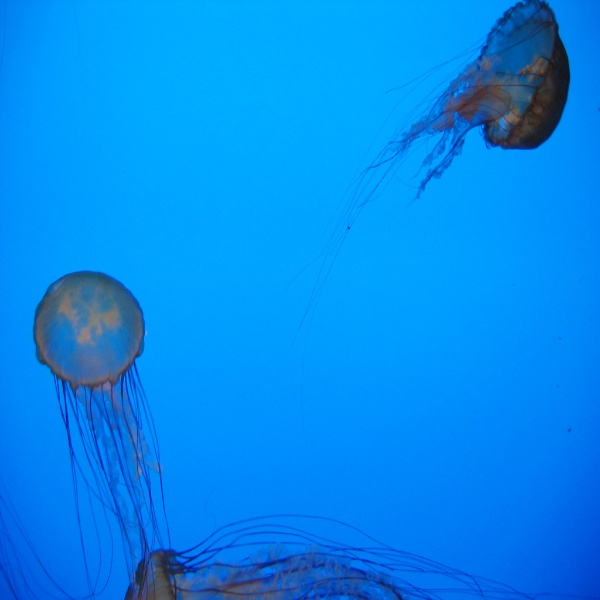Jellyfish: (285, 0, 572, 384), (0, 269, 177, 591), (121, 510, 551, 599)
